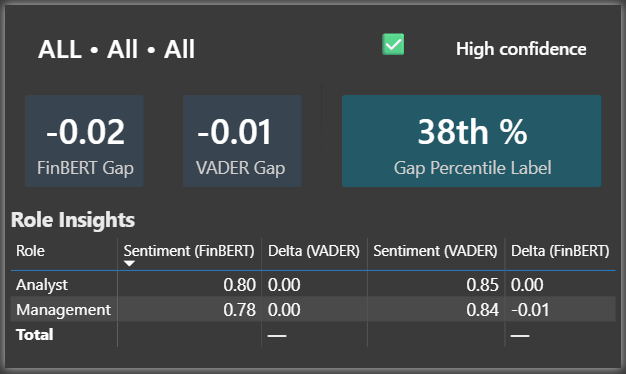

Layout of this report page (visuals, bound fields, positions):
{"tool":"powerbi","page":{"name":"Tooltip #1","canvas":[560,330],"ordinal":1},"visuals":[{"type":"cardVisual","fields":{"Data":["MeasuresTable.TT Header"]},"box":[0,0,400,72],"z":0},{"type":"cardVisual","fields":{"Data":["MeasuresTable.TT Confidence Icon"]},"box":[336,0,64,72],"z":1000},{"type":"cardVisual","fields":{"Data":["MeasuresTable.TT Confidence Label"]},"box":[376,0,184,72],"z":2000},{"type":"cardVisual","fields":{"Data":["MeasuresTable.TT FinBERT Gap Label"]},"box":[0,64,144,120],"z":3000},{"type":"cardVisual","fields":{"Data":["MeasuresTable.TT VADER Gap Label"]},"box":[144,64,144,120],"z":4000},{"type":"cardVisual","fields":{"Data":["MeasuresTable.TT FinBERT Gap Percentile Label"]},"box":[288,64,272,120],"z":5000},{"type":"pivotTable","title":"Role Insights","fields":{"Rows":["TT Role.Role"],"Values":["TT Role.TT Role Sentiment (FinBERT)","TT Role.TT Role Delta Label (VADER)","TT Role.TT Role Sentiment (VADER)","TT Role.TT Role Delta Label (FinBERT)"]},"box":[0,182,560,168],"z":6000},{"type":"cardVisual","fields":{"Data":["MeasuresTable.TT Confidence Icon"]},"box":[320,0,64,64],"z":7000}]}

Visuals, with their boxes in screenshot pixels (x1, y1, x2, y2), scaled from the page's 560x330 canvas onto the 626x374 screenshot:
cardVisual - MeasuresTable.TT Header: [x1=0, y1=0, x2=447, y2=82]
cardVisual - MeasuresTable.TT Confidence Icon: [x1=376, y1=0, x2=447, y2=82]
cardVisual - MeasuresTable.TT Confidence Label: [x1=420, y1=0, x2=625, y2=82]
cardVisual - MeasuresTable.TT FinBERT Gap Label: [x1=0, y1=73, x2=161, y2=209]
cardVisual - MeasuresTable.TT VADER Gap Label: [x1=161, y1=73, x2=322, y2=209]
cardVisual - MeasuresTable.TT FinBERT Gap Percentile Label: [x1=322, y1=73, x2=625, y2=209]
"Role Insights" pivotTable: [x1=0, y1=206, x2=625, y2=373]
cardVisual - MeasuresTable.TT Confidence Icon: [x1=358, y1=0, x2=429, y2=73]
